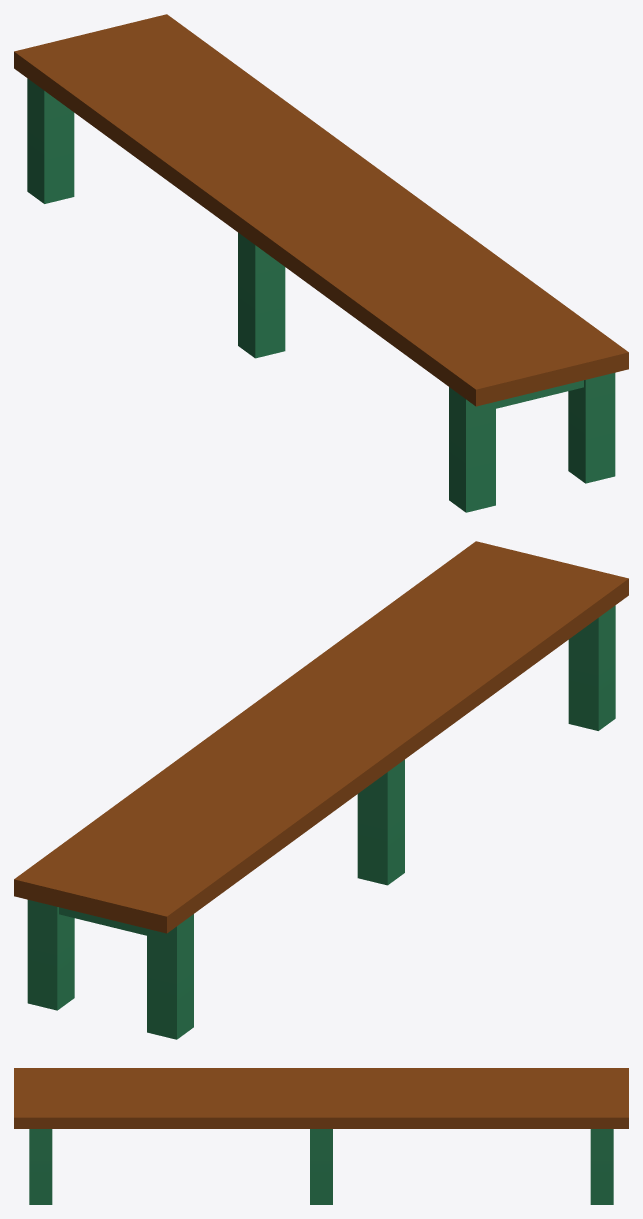
The model's file is Bench_1_C_7.fbx.
The picture shows the model from 3 angles, top to bottom: view 1: azimuth 30°, elevation 25°; view 2: azimuth 150°, elevation 25°; view 3: azimuth 270°, elevation 25°; orthographic projection. The views are drawn at different scales.
Visible parts, largest first — view 1: Bench_1_C_7; view 2: Bench_1_C_7; view 3: Bench_1_C_7.
Boxes of the visible parts, x1,y1,x2,y2 form: Bench_1_C_7: (14,14,628,512); Bench_1_C_7: (14,541,628,1039); Bench_1_C_7: (14,1068,628,1204).
Bounding box in the file's own units: 40.68 × 33.54 × 213.
